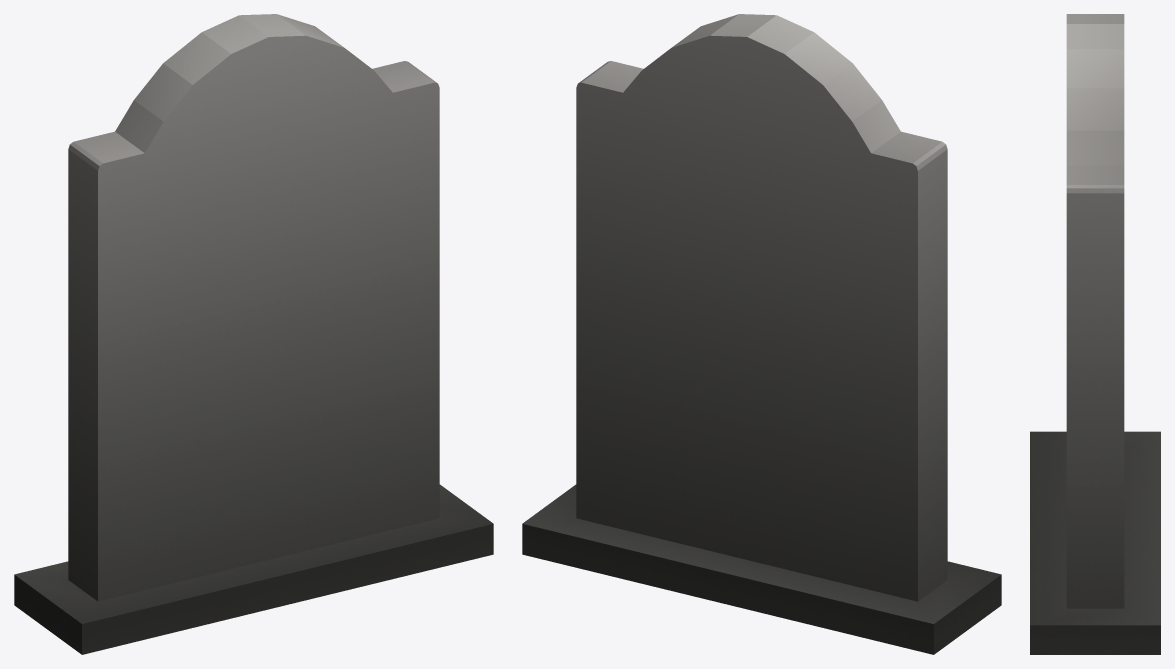
The model's file is tombston_model_03.fbx.
3 renders of one model, left to right at view 1: azimuth 30°, elevation 25°; view 2: azimuth 150°, elevation 25°; view 3: azimuth 270°, elevation 25°, orthographic. The views are drawn at different scales.
Parts seen in each view (by area): view 1: Cube.002; view 2: Cube.002; view 3: Cube.002.
Part boxes in pixels (left/top/right/bottom): Cube.002: left=14, top=14, right=493, bottom=654; Cube.002: left=522, top=14, right=1001, bottom=654; Cube.002: left=1030, top=14, right=1160, bottom=654.
Size of the model in its own units: 0.7 by 0.9 by 0.2.
